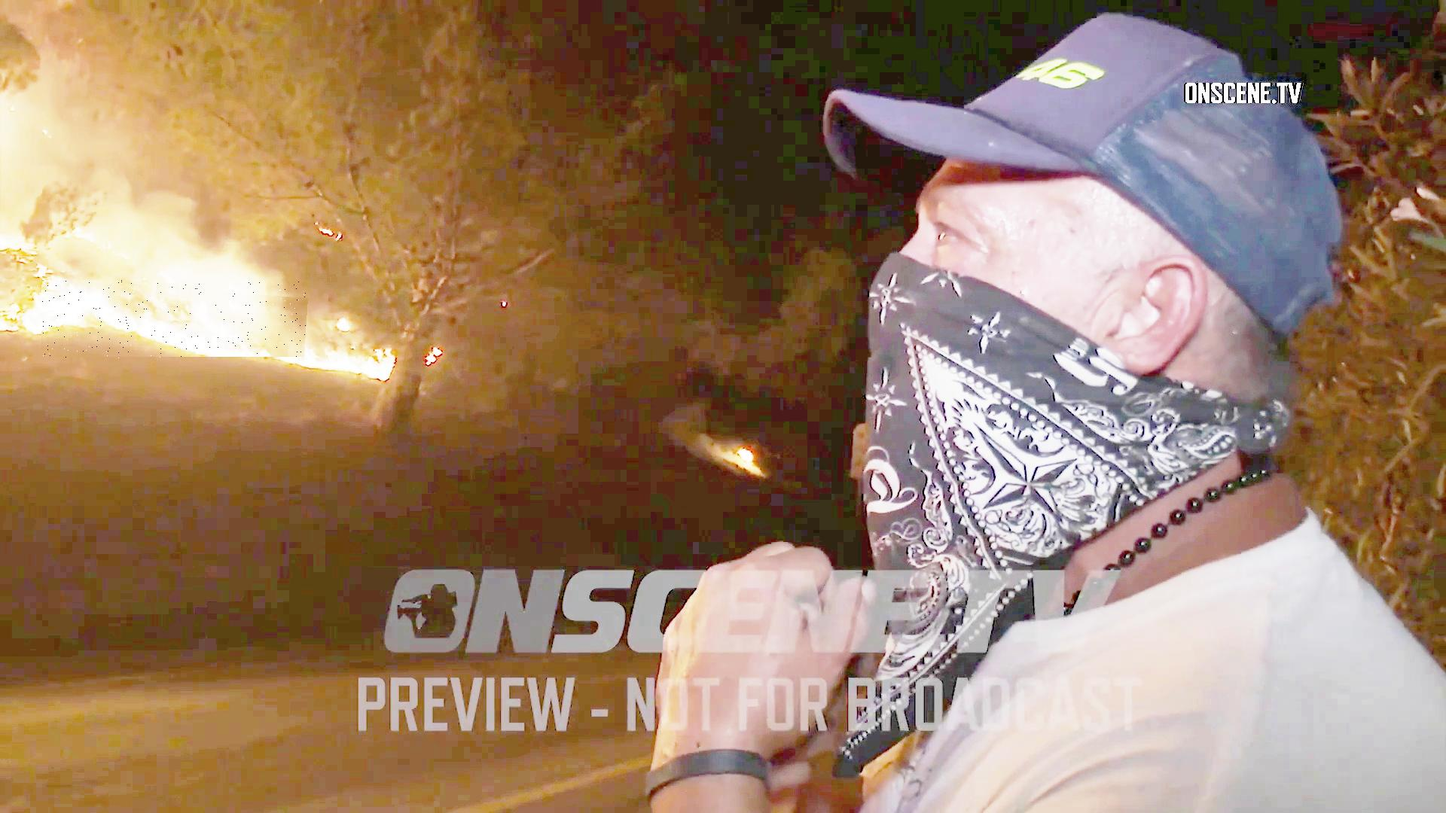fire: (42, 281, 308, 359)
